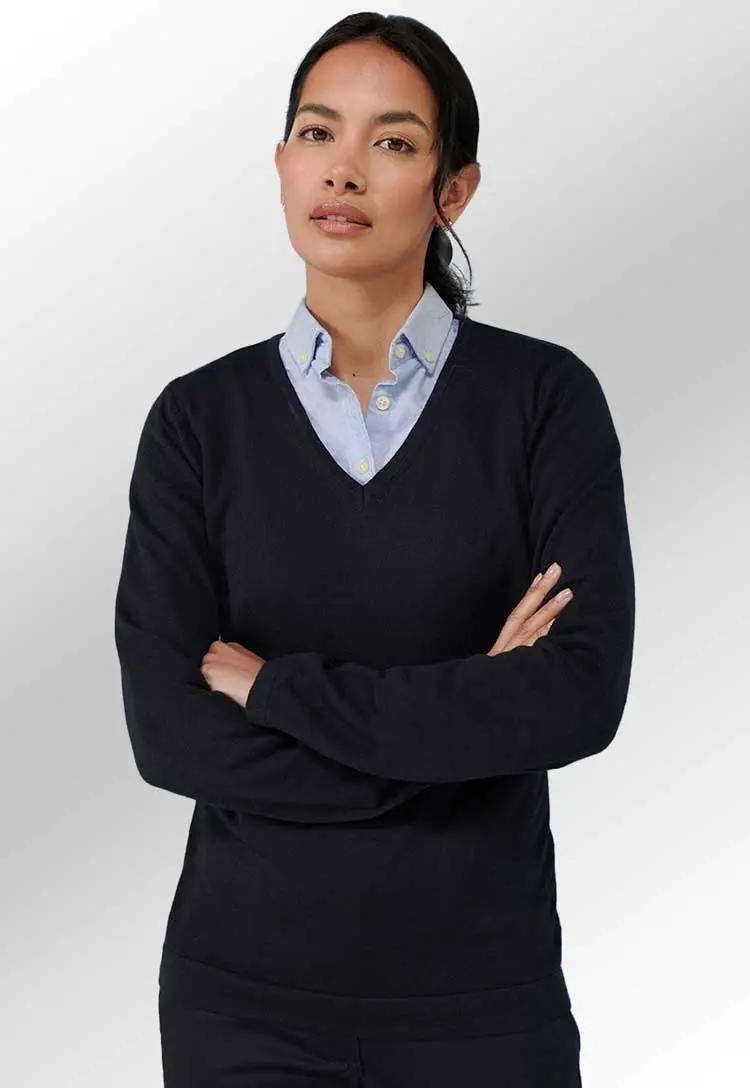sweater: (107, 315, 642, 972)
trousers: (158, 971, 582, 1088)
